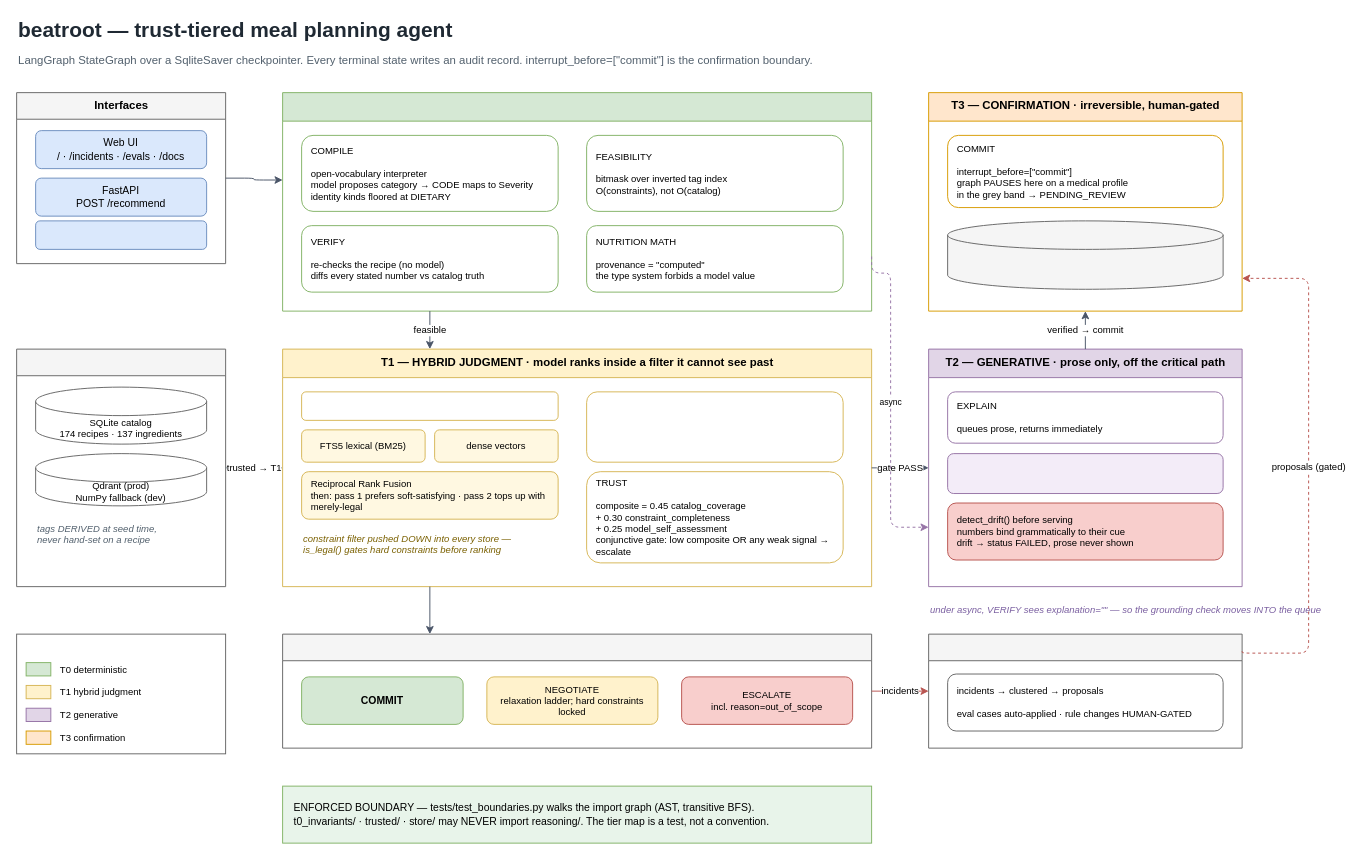
Image size: 1362x860. Some labels were removed from this diagram. Each missing label, with the box of its shape:
Audit log — every terminal state, including a thread paused and never resumed: (947, 220, 1223, 289)
CLI (typer): (35, 220, 207, 249)
ExplanationQueue (swap for Celery / RQ unchanged): (947, 453, 1223, 494)
RETRIEVE — hybrid, two passes: (301, 391, 558, 420)
SCORE LLM rerank over ALREADY-LEGAL candidates cannot make anything unsafe: (586, 391, 843, 462)
Self-healing loop: (928, 633, 1242, 748)
T0 — INVARIANTS · deterministic, never modelled: (282, 92, 872, 311)
Terminal states → END: (282, 633, 872, 748)
Trust tiers: (16, 633, 226, 754)
Trusted data: (16, 348, 226, 587)
